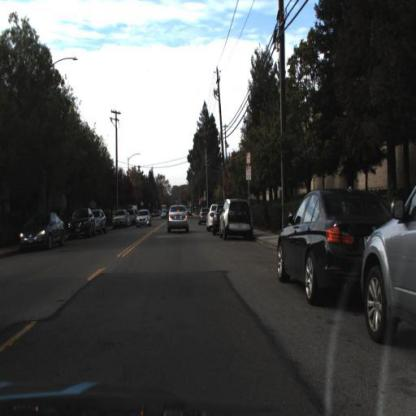car: (277, 184, 371, 307), (364, 182, 416, 349), (18, 209, 66, 254), (219, 197, 255, 242), (68, 204, 96, 242), (167, 205, 190, 235)
